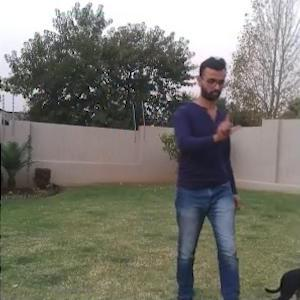land_hand: (211, 108, 242, 147)
